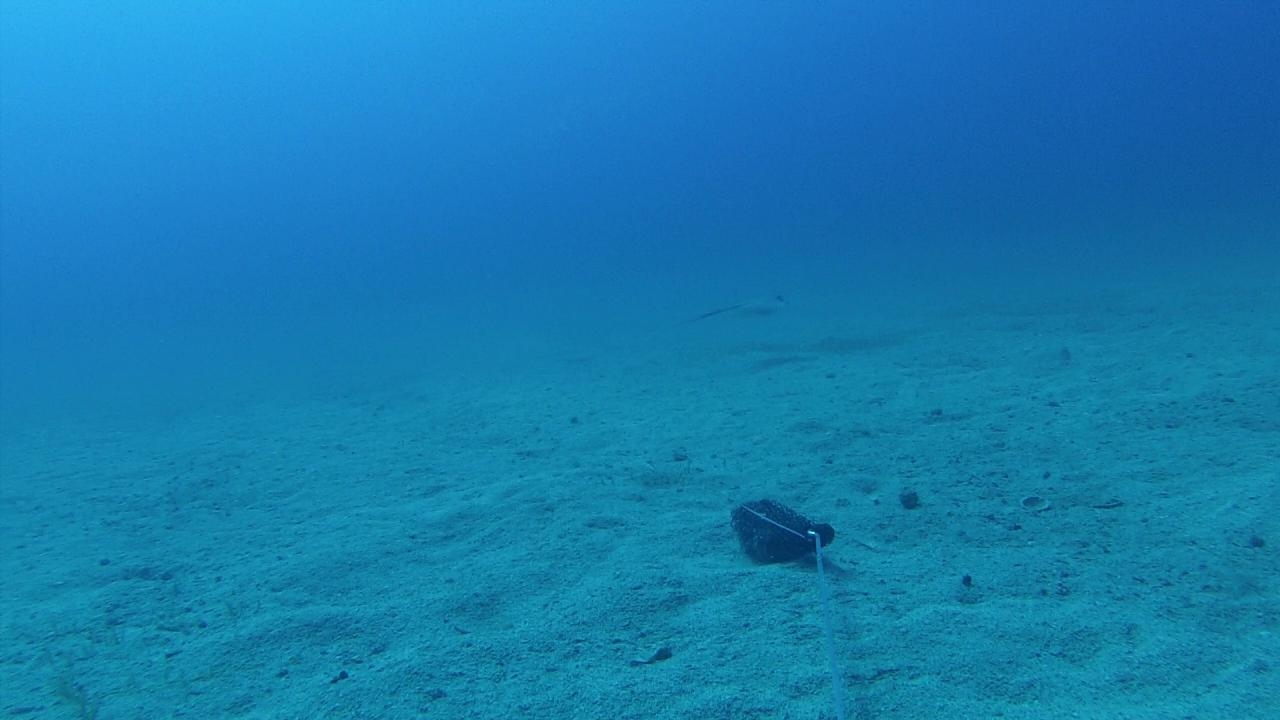dasyatis: (679, 294, 790, 326)
